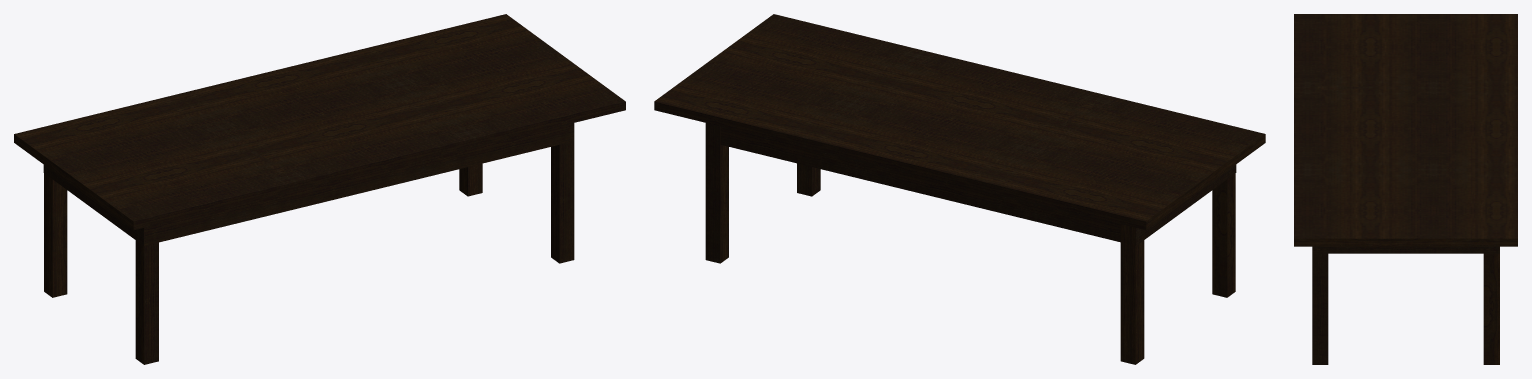
The model's file is SquareTable.fbx.
3 views of the same model, side by side, from view 1: azimuth 30°, elevation 25°; view 2: azimuth 150°, elevation 25°; view 3: azimuth 270°, elevation 25° (orthographic). The views are drawn at different scales.
Visible parts, largest first — view 1: polySurface1; view 2: polySurface1; view 3: polySurface1.
Part boxes in pixels (x1=…): polySurface1: x1=14, y1=14, x2=625, y2=364; polySurface1: x1=654, y1=14, x2=1265, y2=364; polySurface1: x1=1294, y1=14, x2=1517, y2=364.
Bounding box in the file's own units: 6.02 × 1.82 × 2.54.
Materials: 1 (1 with a texture image).
